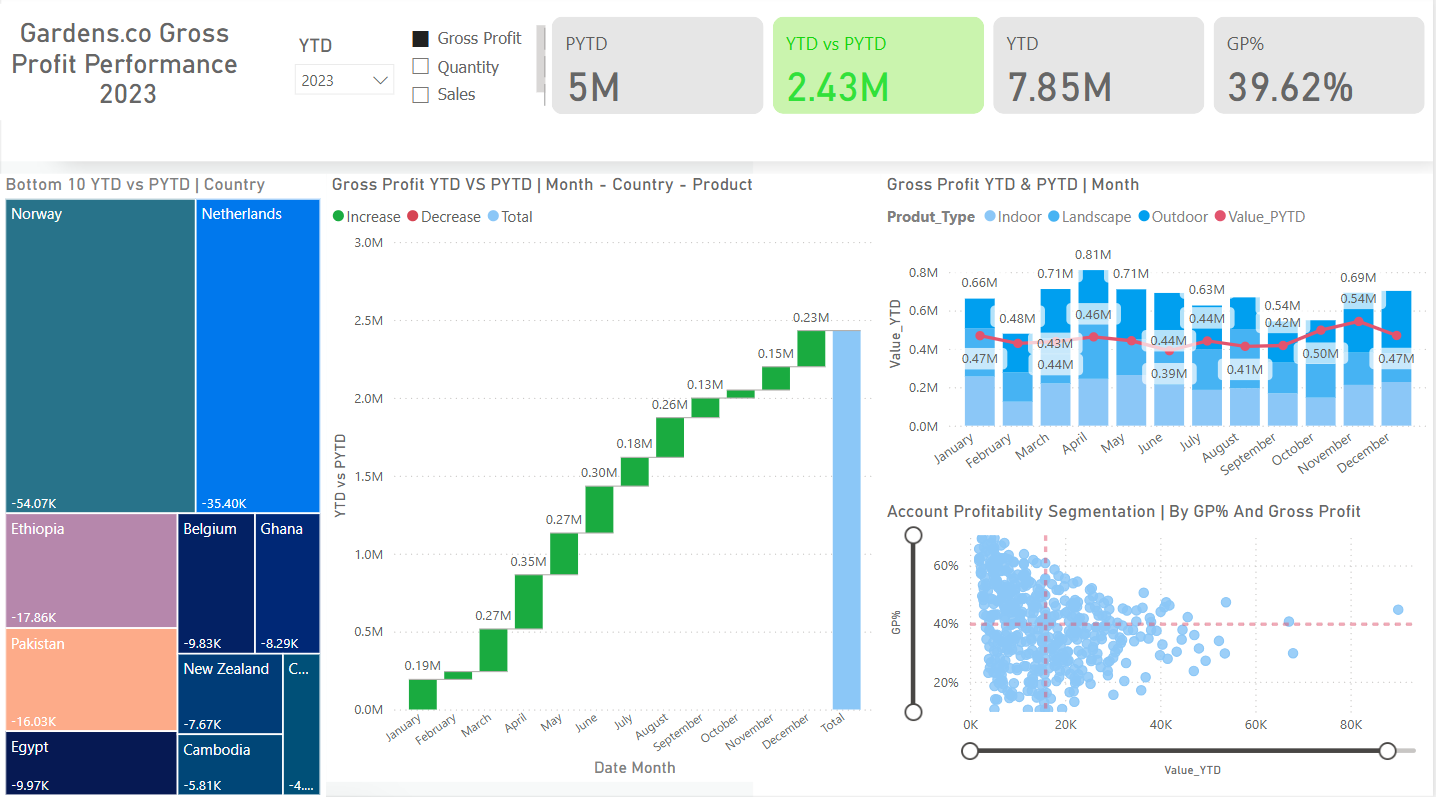

The page's visual inventory and layout, read from the dashboard file:
{"tool":"powerbi","page":{"name":"Performance_report","canvas":[1280,720],"ordinal":0},"visuals":[{"type":"cardVisual","fields":{"Data":["formulas.sl_PYTD","formulas.YTD vs PYTD","formulas.sl_YTD","formulas.GP%"]},"box":[488,14.5,792.8,97.1],"z":0},{"type":"slicer","fields":{"Values":["slicer_values.Values"]},"box":[358.4,24.6,129.5,78.2],"z":1000},{"type":"slicer","fields":{"Values":["date_data.Date.Variation.Date Hierarchy.Year"]},"box":[254.6,31.3,103.8,64.8],"z":2000},{"type":"treemap","title":"Bottom 10 YTD vs PYTD | Country","fields":{"Values":["formulas.YTD vs PYTD"],"Group":["Accounts_data.country"]},"box":[0,159.7,291.4,560.5],"z":3000},{"type":"waterfallChart","fields":{"Y":["formulas.YTD vs PYTD"],"Category":["date_data.Date.Variation.Date Hierarchy.Month","Accounts_data.country","product_data.Produt_Type","product_data.Product_Name"]},"box":[291.8,159.4,495.3,543.1],"z":4000},{"type":"lineStackedColumnComboChart","fields":{"Y":["formulas.sl_YTD"],"Y2":["formulas.sl_PYTD"],"Category":["date_data.Date.Variation.Date Hierarchy.Month","date_data.Date.Variation.Date Hierarchy.Quarter"],"Series":["product_data.Produt_Type"]},"box":[787.1,159.4,492.9,293],"z":5000},{"type":"scatterChart","fields":{"Y":["formulas.GP%"],"X":["formulas.sl_YTD"],"Category":["Accounts_data.Account"]},"box":[787.4,452.3,492.3,250.6],"z":5001},{"type":"card","fields":{"Values":["formulas.Report_title"]},"box":[0,7.8,228.9,103.8],"z":5002}]}

Visuals, with their boxes in screenshot pixels (x1, y1, x2, y2), scaled from the page's 1280x720 canvas onto the 1436x797 screenshot:
cardVisual - formulas.sl_PYTD x formulas.YTD vs PYTD: l=547, t=16, r=1435, b=124
slicer - slicer_values.Values: l=402, t=27, r=547, b=114
slicer - date_data.Date.Variation.Date Hierarchy.Year: l=286, t=35, r=402, b=106
"Bottom 10 YTD vs PYTD | Country" treemap: l=0, t=177, r=327, b=796
waterfallChart - formulas.YTD vs PYTD x date_data.Date.Variation.Date Hierarchy.Month: l=327, t=176, r=883, b=778
lineStackedColumnComboChart - formulas.sl_YTD x formulas.sl_PYTD: l=883, t=176, r=1435, b=501
scatterChart - formulas.GP% x formulas.sl_YTD: l=883, t=501, r=1435, b=778
card - formulas.Report_title: l=0, t=9, r=257, b=124
